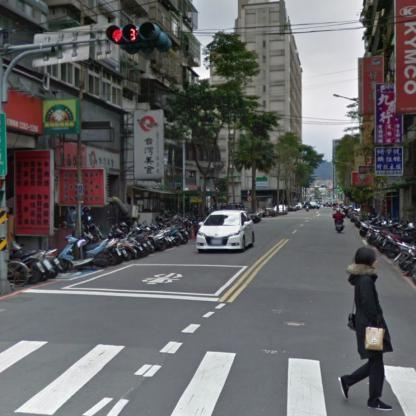Red Light: (108, 22, 162, 44)
